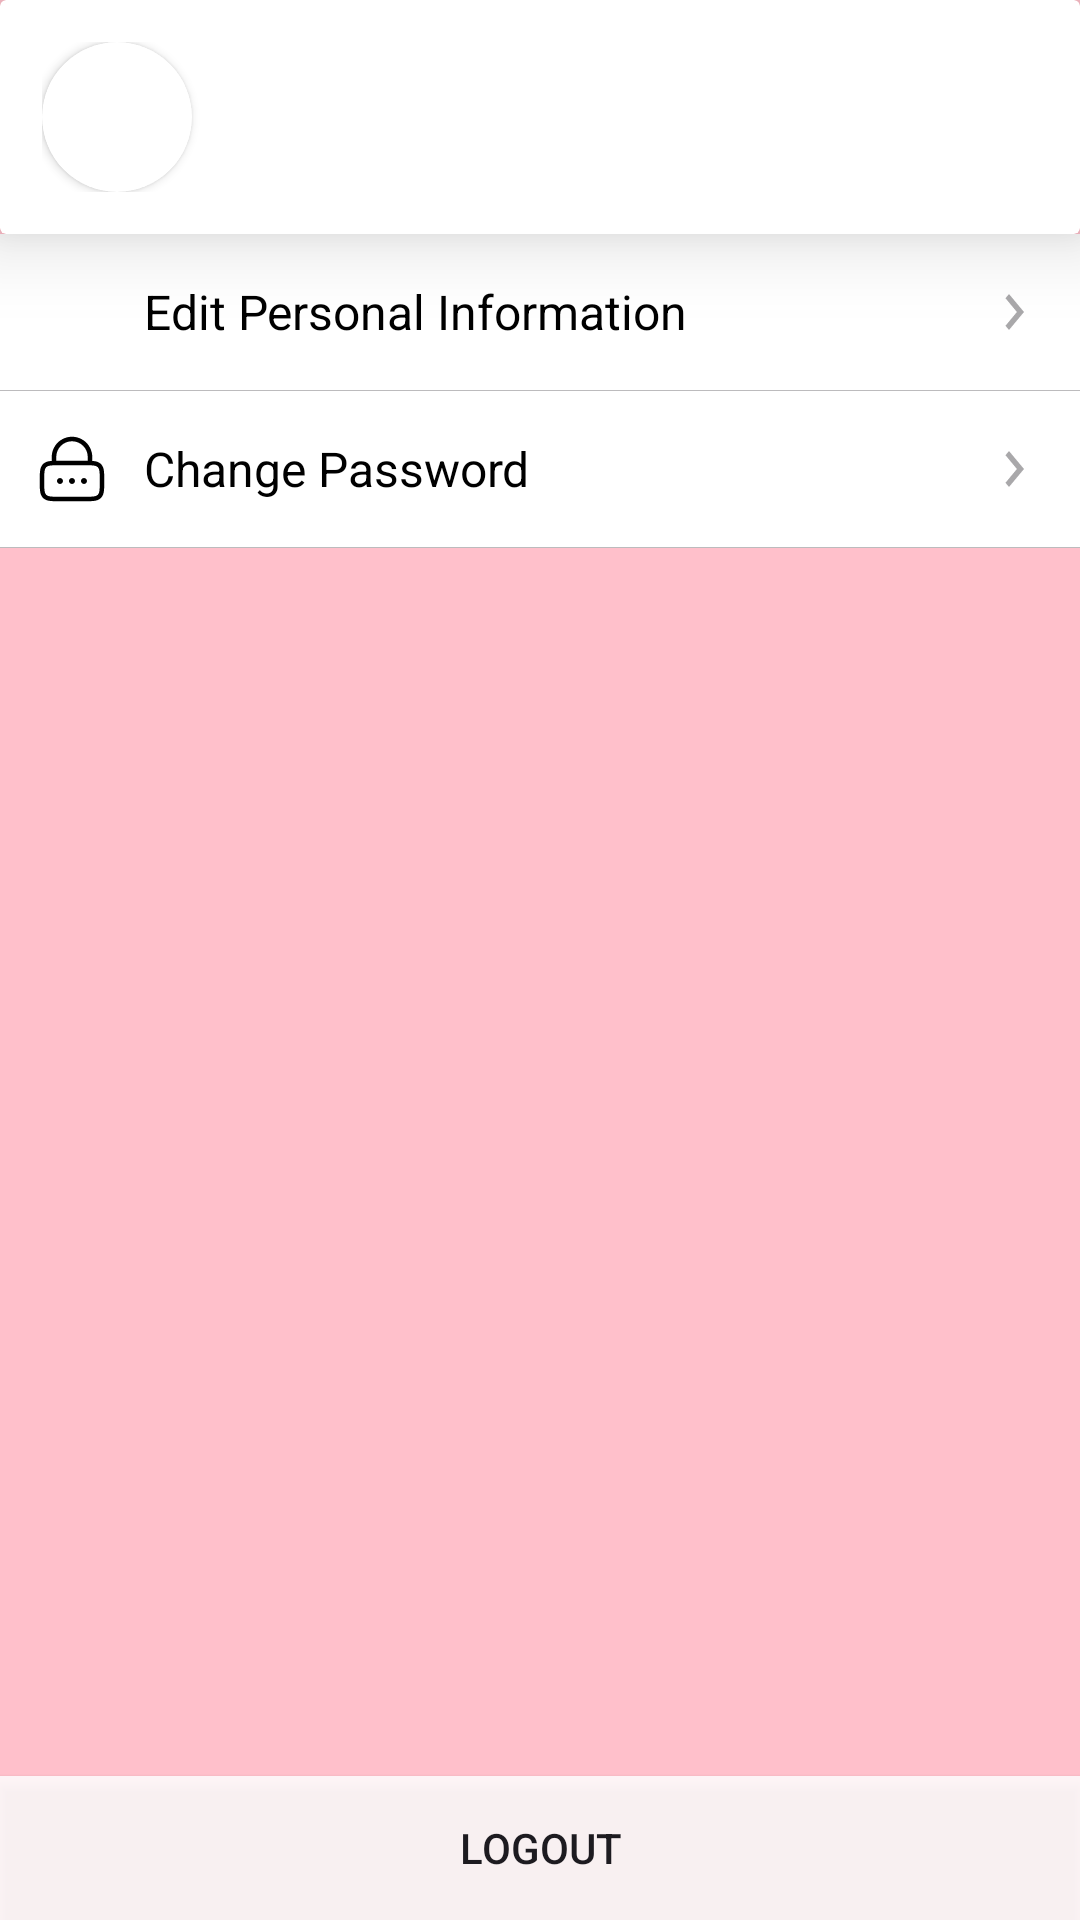

Icon click points for this 1080*1920 phone screenshot, format (x,y):
keyboard arrow right: (1014,312), (1014,469)
